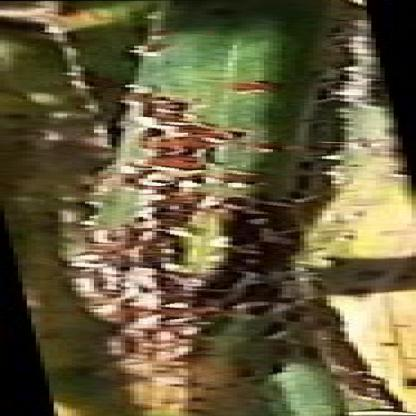wheat Stem Rust: (107, 70, 320, 382), (146, 399, 317, 410)
